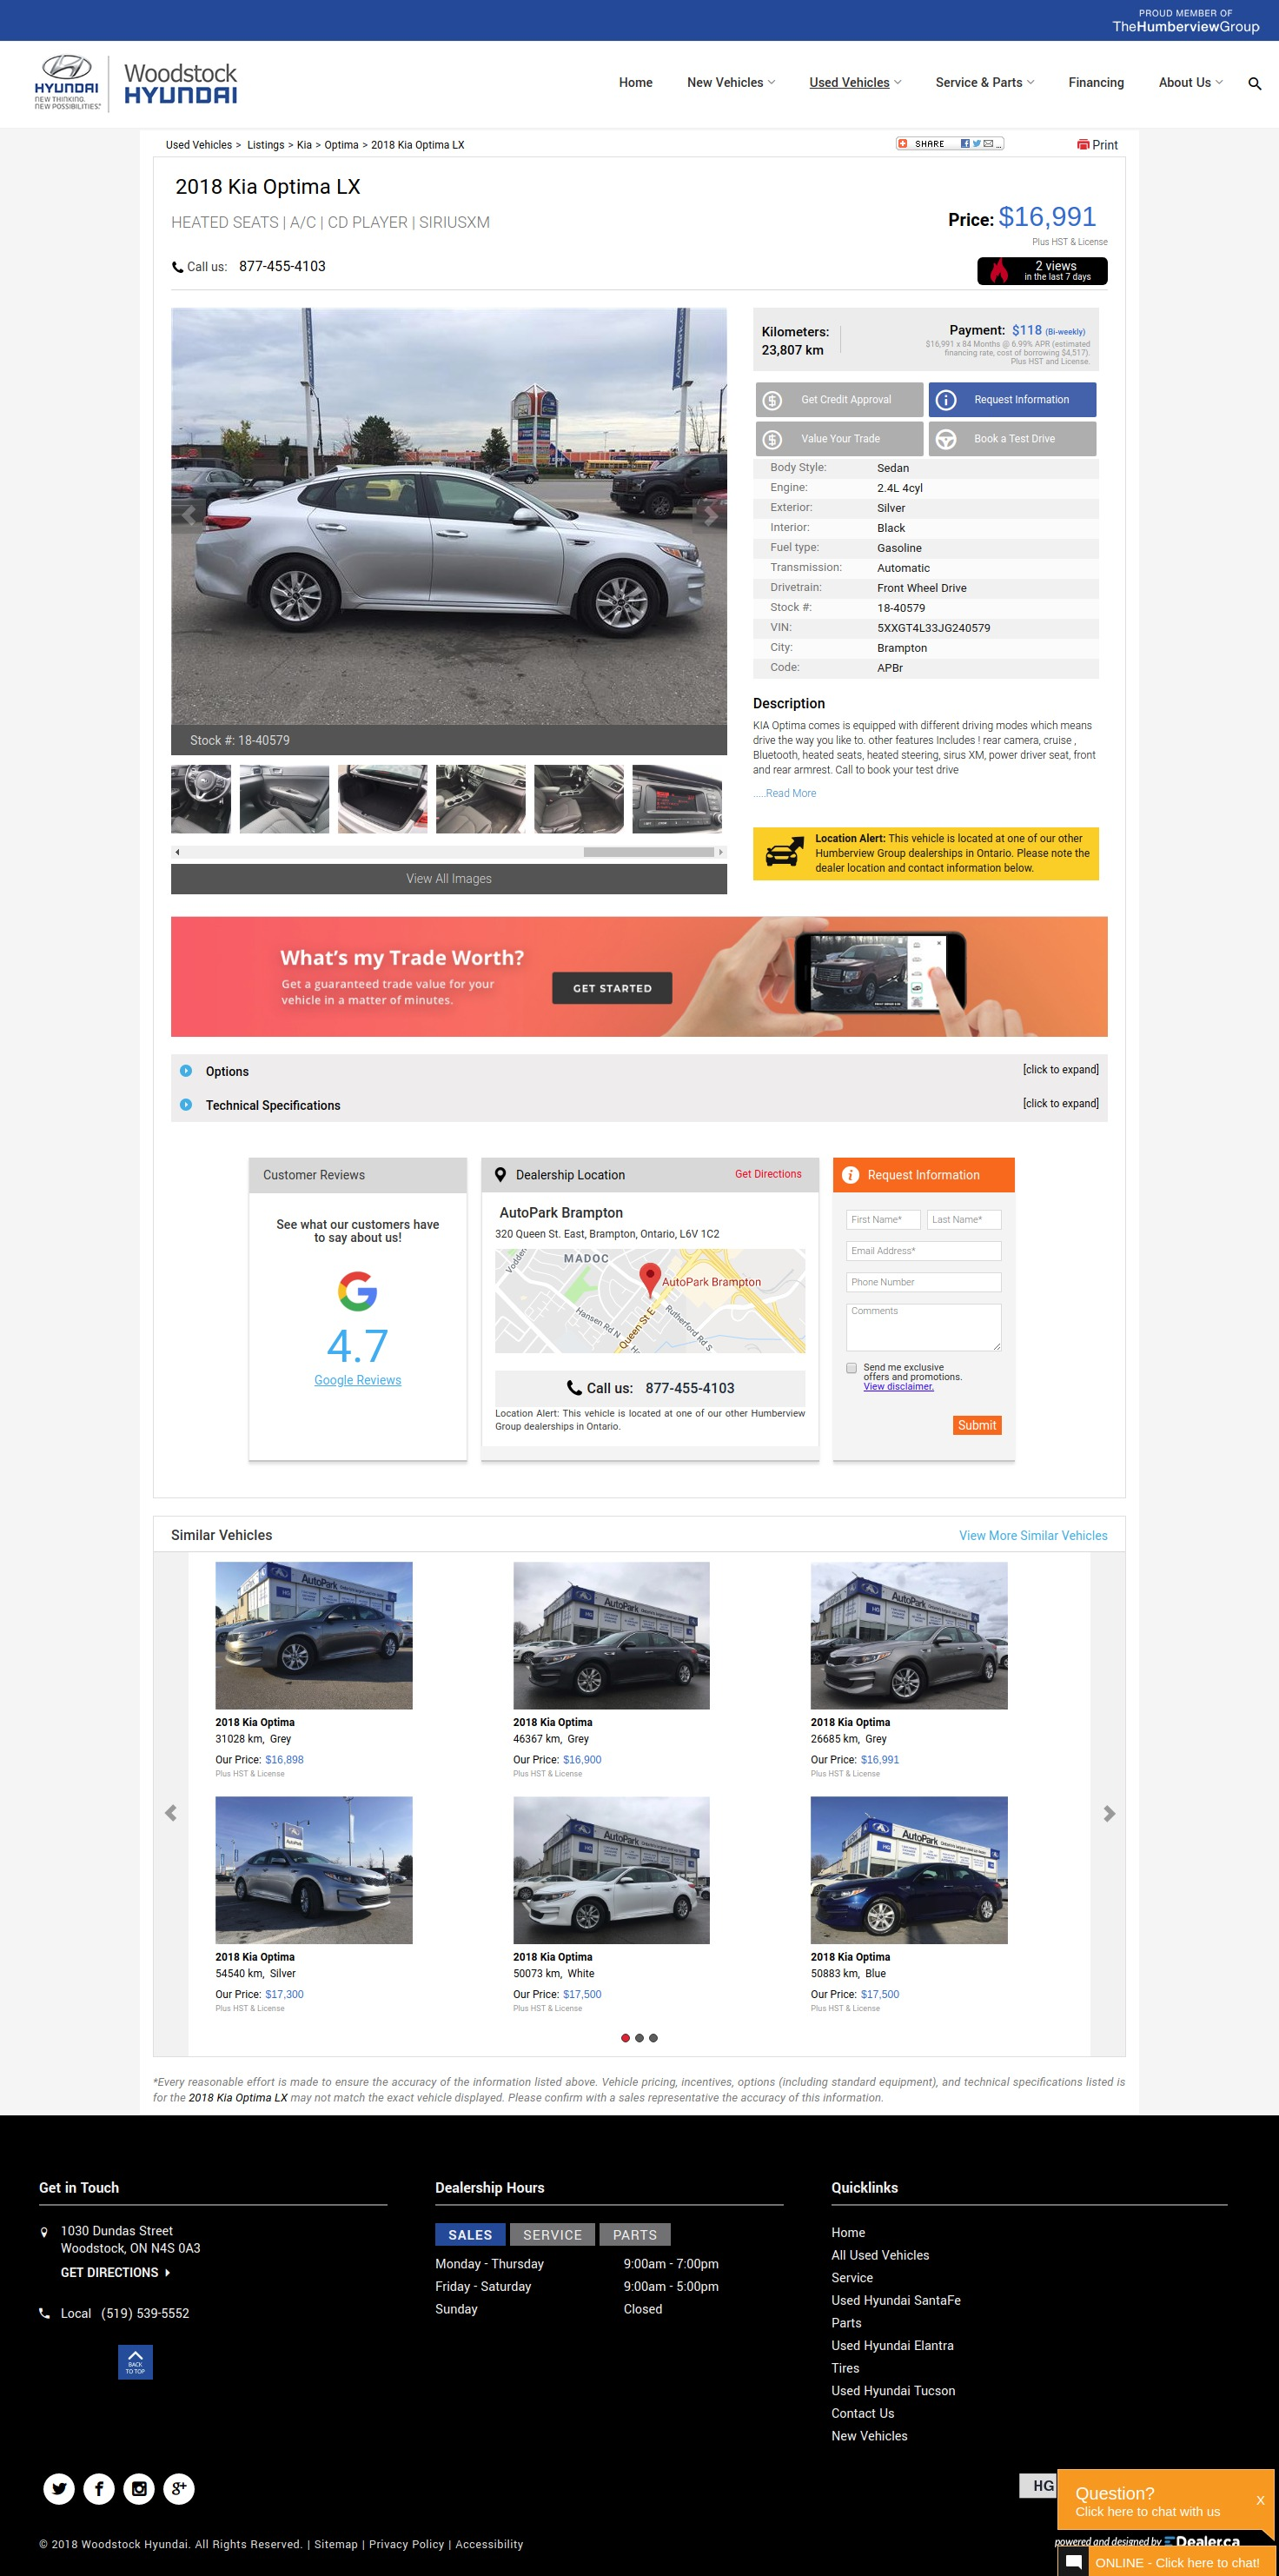car: (714, 846, 727, 859)
